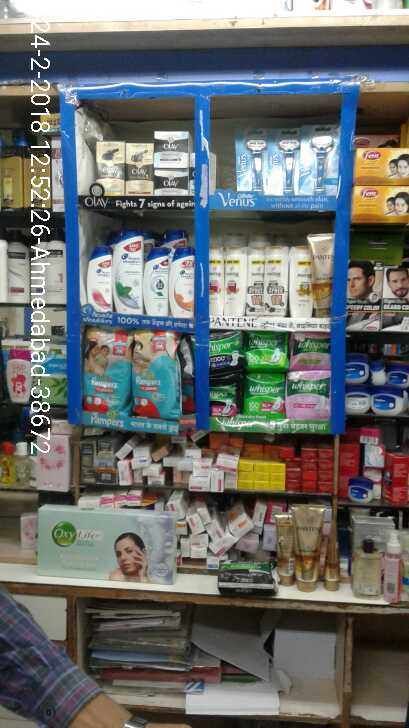venus: (299, 124, 340, 194), (237, 126, 271, 196), (271, 126, 299, 194)
